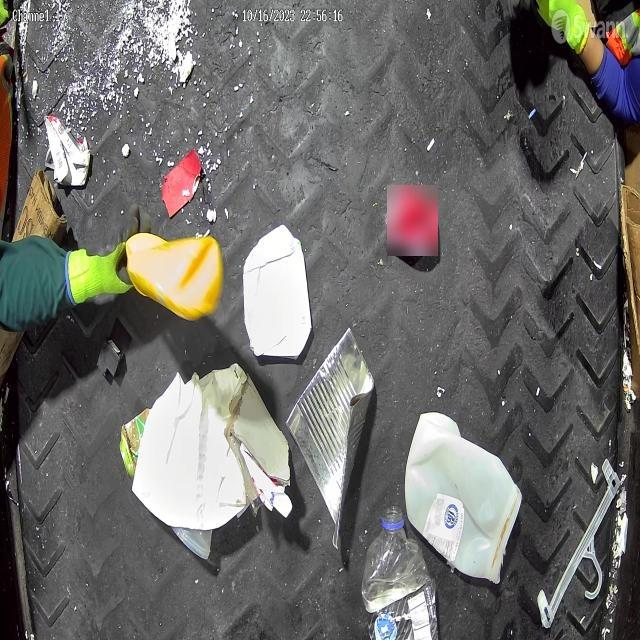milk_jug: (404, 412, 522, 585)
non_white_jug: (126, 230, 222, 322)
plastic_bottle: (362, 506, 438, 640)
